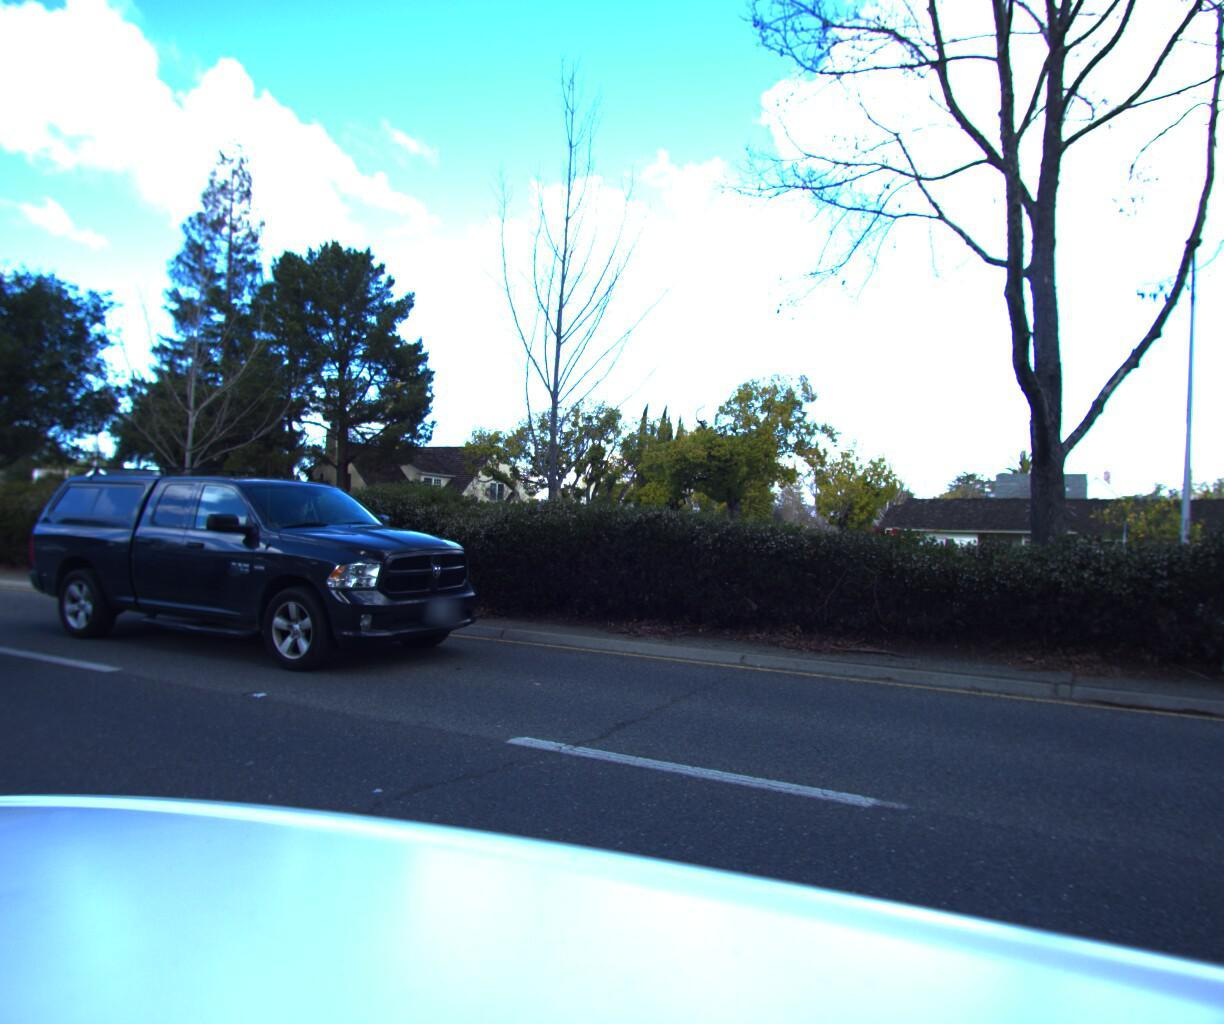car: (14, 456, 495, 691)
